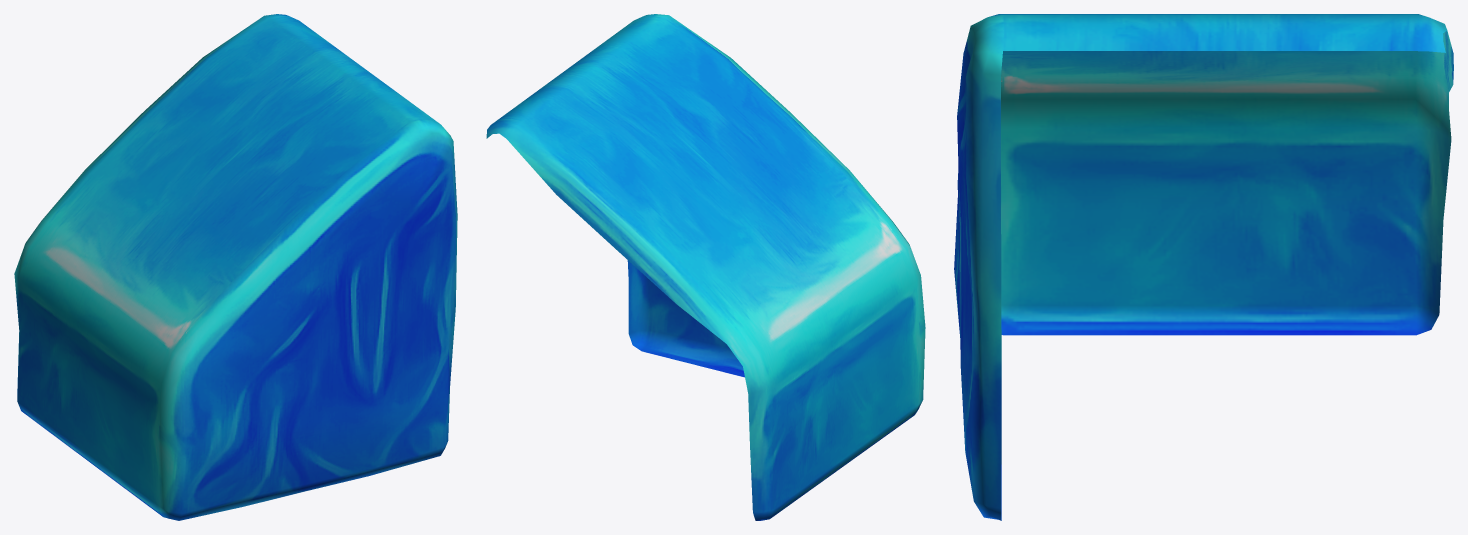
The model's file is IceCube1v2.fbx.
The picture shows the model from 3 angles, left to right: view 1: azimuth 30°, elevation 25°; view 2: azimuth 150°, elevation 25°; view 3: azimuth 270°, elevation 25°; orthographic projection. The views are drawn at different scales.
Parts seen in each view (by area): view 1: ice_cube_1v2; view 2: ice_cube_1v2; view 3: ice_cube_1v2.
Boxes of the visible parts, x1=… form: ice_cube_1v2: x1=14, y1=14, x2=457, y2=520; ice_cube_1v2: x1=486, y1=14, x2=925, y2=520; ice_cube_1v2: x1=954, y1=14, x2=1453, y2=520.
Bounding box in the file's own units: 95.5 × 105 × 96.93.
